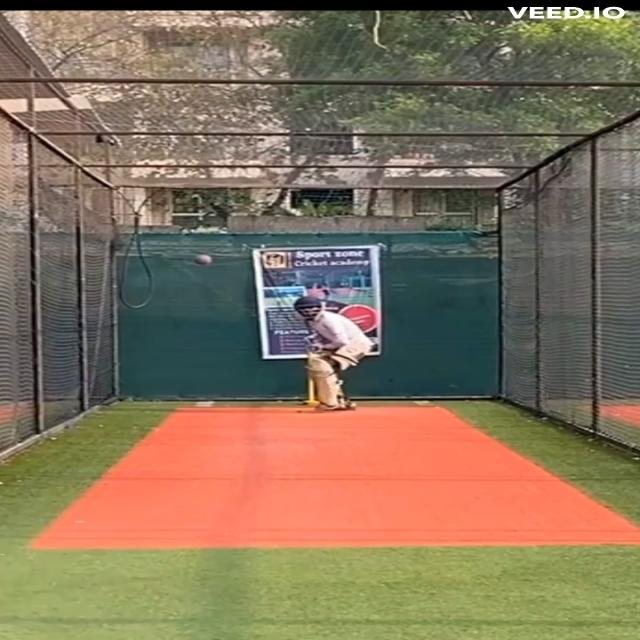ball: (189, 252, 214, 266)
